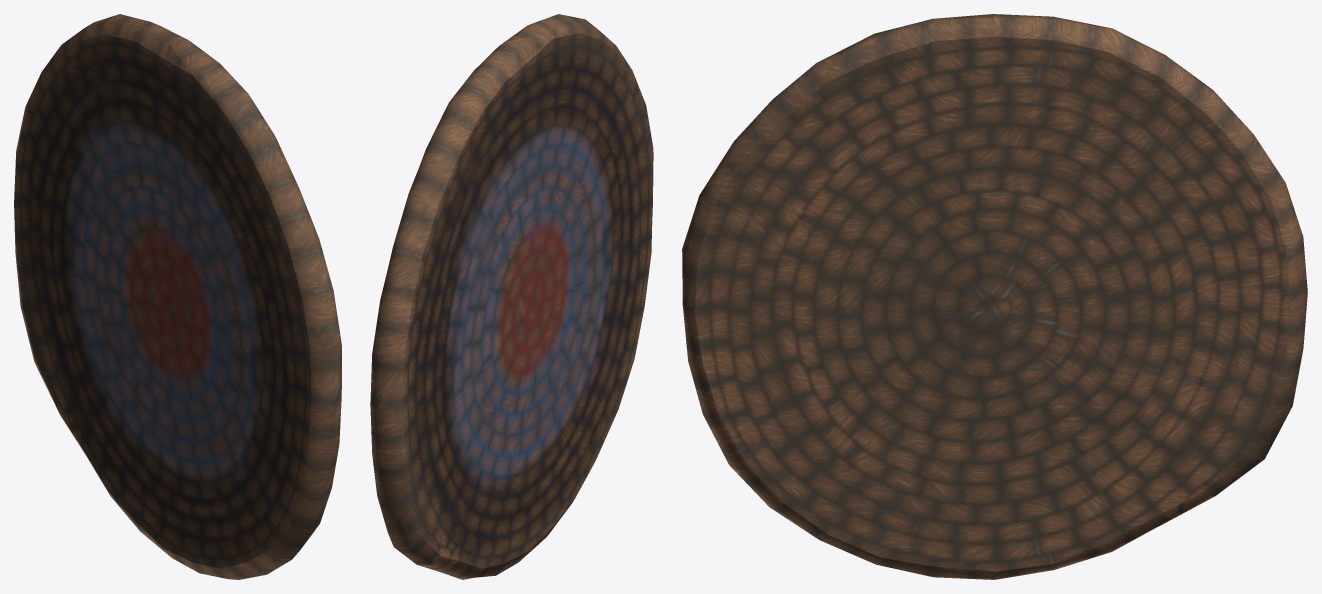
File: target_divided_in_4.glb
3 views of the same model, side by side, from view 1: azimuth 30°, elevation 25°; view 2: azimuth 150°, elevation 25°; view 3: azimuth 270°, elevation 25° (orthographic). The views are drawn at different scales.
Visible parts, largest first — view 1: upper_left, lower_left, upper_right, lower_right; view 2: upper_right, lower_right, upper_left, lower_left; view 3: upper_left, upper_right, lower_right, lower_left.
Boxes of the visible parts, x1,y1,x2,y2 form: upper_left: (163, 38, 341, 398); lower_left: (164, 302, 341, 579); upper_right: (14, 14, 187, 299); lower_right: (14, 38, 189, 558); upper_right: (370, 41, 530, 406); lower_right: (370, 41, 530, 579); upper_left: (501, 14, 653, 302); lower_left: (523, 200, 652, 558); upper_left: (682, 14, 994, 309); upper_right: (993, 14, 1307, 306); lower_right: (989, 14, 1307, 579); lower_left: (682, 303, 992, 579).
Bounding box in the file's own units: 0.2169 × 1.99 × 2.
Materials: 1 (1 with a texture image).
